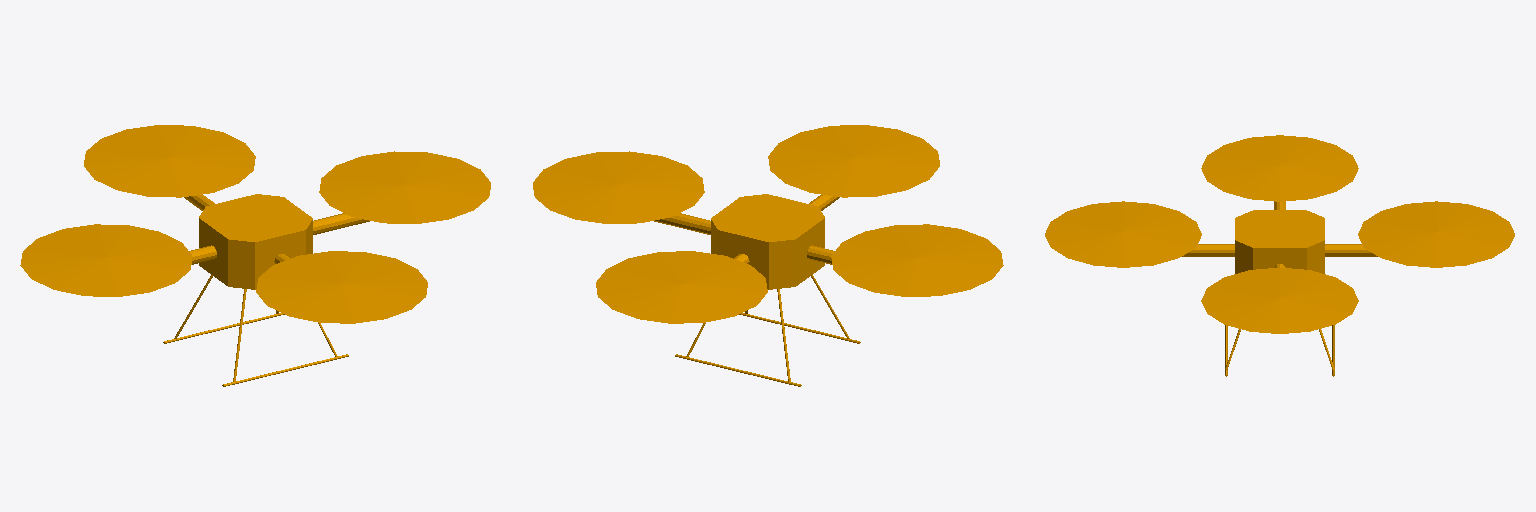
The robot description file, URDF, robot "quadrotor":
<?xml version="1.0" ?>

<!-- adapted from [author], [author], [author], "Trajectory Generation and Control for Precise Aggressive Maneuvers with Quadrotors" -->

<robot xmlns="http://drake.mit.edu"
 xmlns:xsi="http://www.w3.org/2001/XMLSchema-instance"
 xsi:schemaLocation="http://drake.mit.edu ../../../../pods/drake/doc/drakeURDF.xsd" name="quadrotor">
  <link name="base_link">
    <inertial>
      <mass value="0.5"/>
      <origin xyz="0 0 0"/>
      <inertia ixx="0.0023" ixy="0.0" ixz="0.0" iyy="0.0023" iyz="0.0" izz="0.004"/>
    </inertial>
    <visual>
      <origin rpy="0 0 0" xyz="0 0 0"/>
      <geometry>
        <mesh filename="quadrotor_base.obj" scale=".1 .1 .1"/>
      </geometry>
    </visual>
    <!-- note: the original hector quadrotor urdf had a (simplified, but still complex) collision mesh, too -->
    <collision>
      <origin rpy="0 0 0" xyz="0 0 0"/>
      <geometry>
        <cylinder radius=".3" length=".1"/>
      </geometry>
    </collision>      
  </link>
  <frame link="base_link" name="body" rpy="0 0 0" xyz="0 0 0" />
  <force_element name="prop1">
    <propellor lower_limit="0" upper_limit="10" scale_factor_thrust="1.0" scale_factor_moment="0.0245">
      <parent link="base_link"/>
      <origin xyz=".1750 0 0"/>
      <axis xyz="0 0 1"/>
    </propellor>
  </force_element>

  <force_element name="prop2">
    <propellor lower_limit="0" upper_limit="10" scale_factor_thrust="1.0" scale_factor_moment="-0.0245">
      <parent link="base_link"/>
      <origin xyz="0 .1750 0 "/>
      <axis xyz="0 0 1"/>
    </propellor>
  </force_element>
  
  <force_element name="prop3">
    <propellor lower_limit="0" upper_limit="10" scale_factor_thrust="1.0" scale_factor_moment="0.0245">
      <parent link="base_link"/>
      <origin xyz="-.1750 0 0"/>
      <axis xyz="0 0 1"/>
    </propellor>
  </force_element>
  
  <force_element name="prop4">
    <propellor lower_limit="0" upper_limit="10" scale_factor_thrust="1.0" scale_factor_moment="-0.0245">
      <parent link="base_link"/>
      <origin xyz="0 -.1750 0"/>
      <axis xyz="0 0 1"/>
    </propellor>
  </force_element>
  
</robot>

--- What the picture shows (computed from the rendered views, not written in the file) ---
Views: 3 orthographic renders of the robot side by side, from view 1: azimuth 30°, elevation 25°; view 2: azimuth 150°, elevation 25°; view 3: azimuth 270°, elevation 25°.
Model quadrotor with 1 links and 0 joints (none), rooted at base_link, posed all joints at 0.
Links seen in each view (by area): view 1: base_link; view 2: base_link; view 3: base_link.
Link boxes in pixels (<box>): base_link: <box>20,125,490,386</box>; base_link: <box>533,125,1003,386</box>; base_link: <box>1045,135,1514,376</box>.
Bounding box of the posed robot: 0.5924 × 0.5924 × 0.1666 m (x, y, z).
Meshes: 1 distinct files referenced, 1 mesh visuals loaded (1 OBJ).
